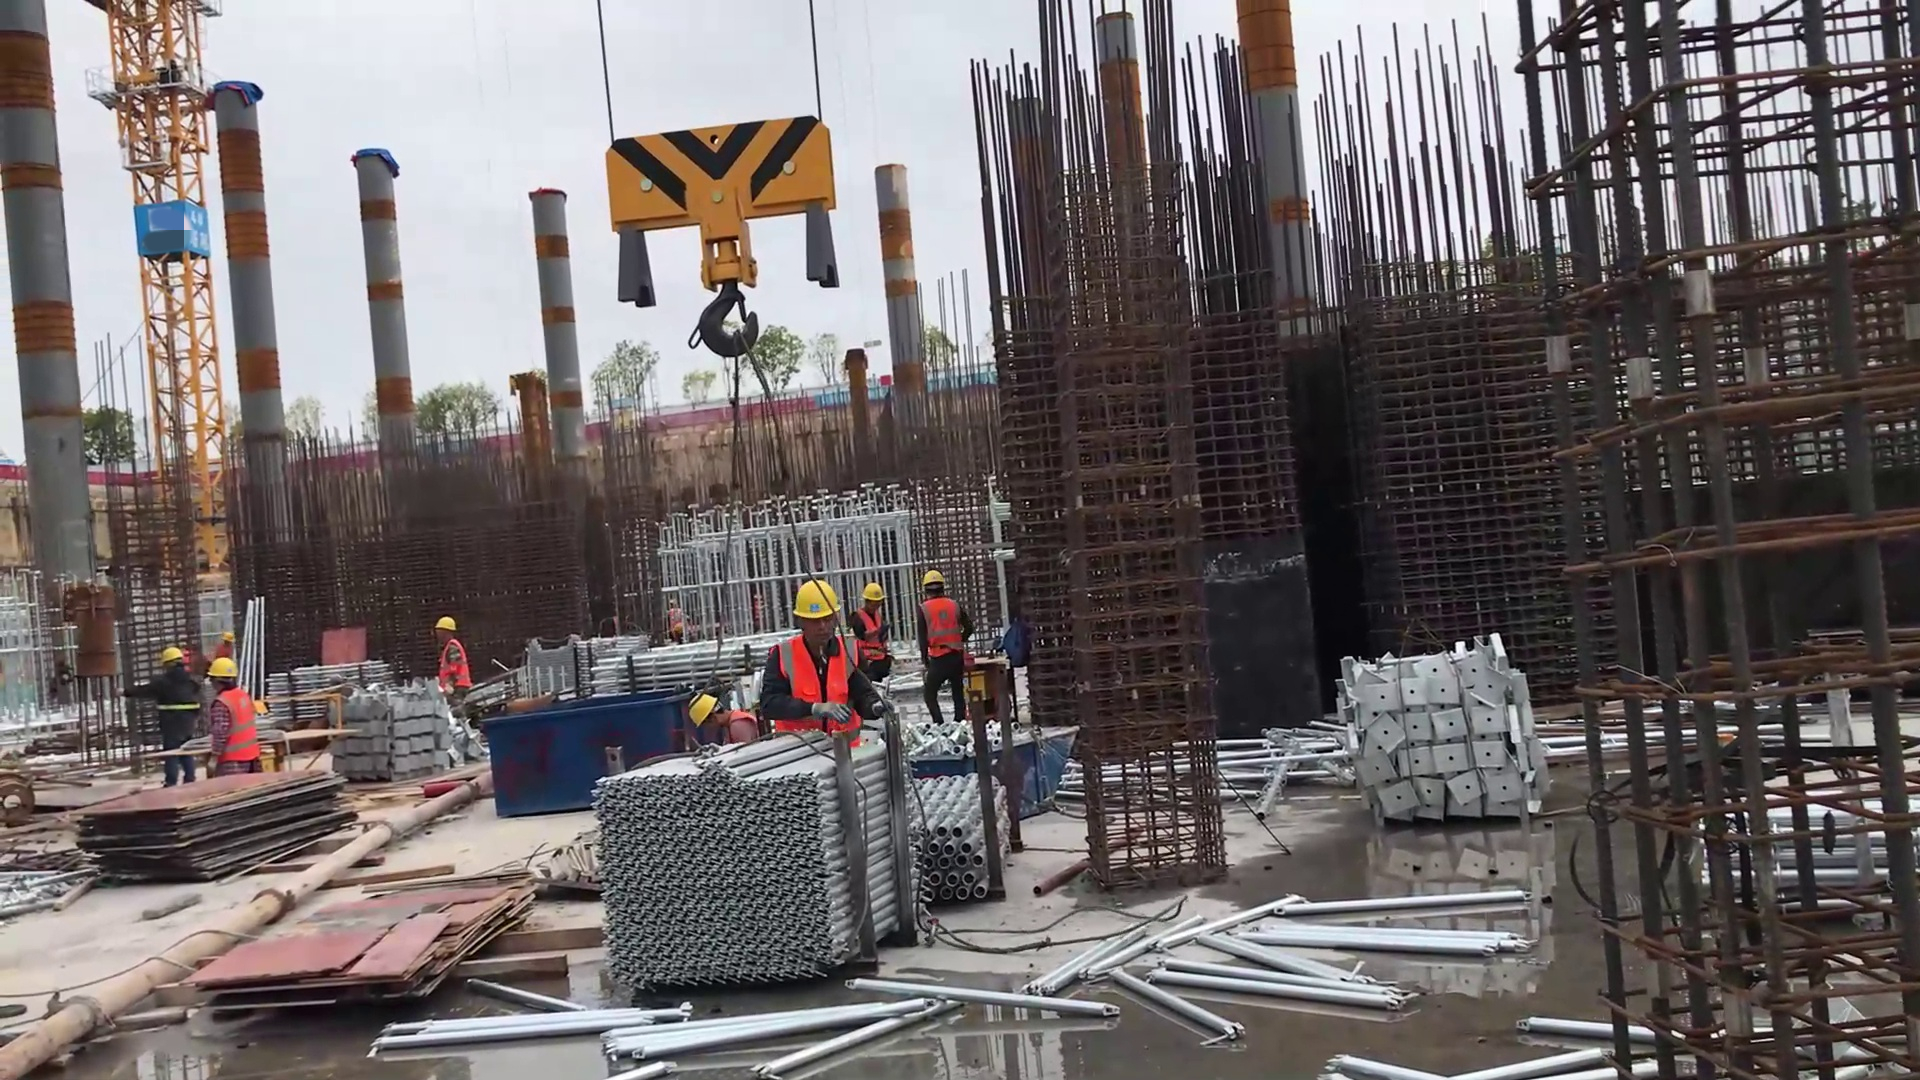board: (46, 769, 408, 897), (171, 876, 520, 996)
helmet: (793, 569, 850, 618), (688, 685, 732, 727), (851, 579, 898, 610), (202, 649, 242, 679), (919, 561, 952, 595), (158, 645, 194, 670), (428, 607, 458, 634)
hook: (600, 110, 867, 356)
hopper: (871, 696, 1083, 808)
person: (783, 565, 893, 758), (194, 643, 271, 779), (904, 570, 971, 712), (850, 580, 923, 710), (133, 627, 197, 772), (409, 601, 481, 716)
scaffold: (570, 718, 950, 1012)
vest: (436, 638, 486, 695)
